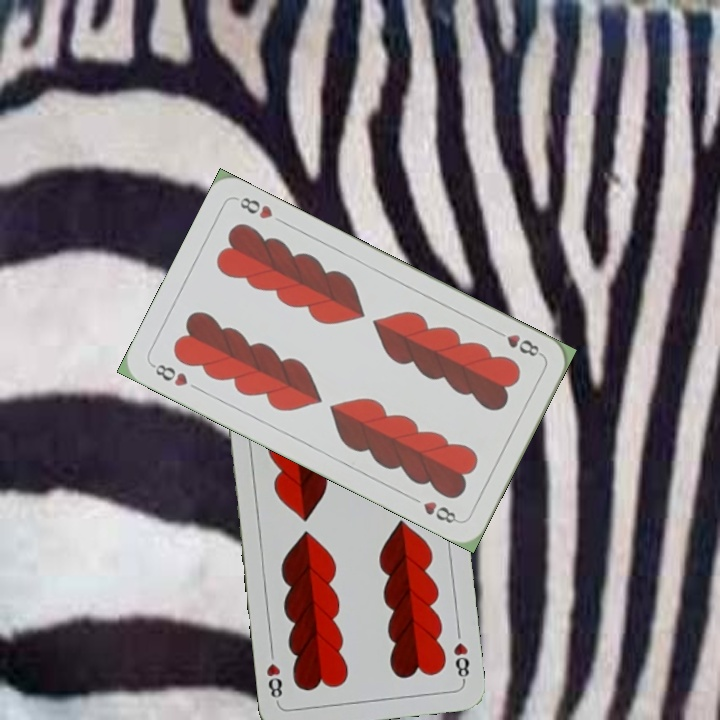H8: (490, 326, 545, 360), (147, 360, 191, 389), (449, 638, 472, 685)
